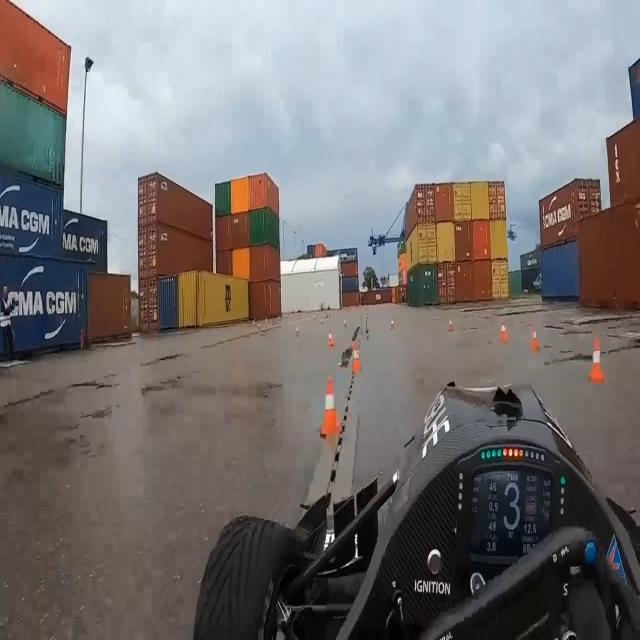Orange cone: (316, 362, 344, 453), (586, 322, 610, 400), (346, 332, 369, 381), (524, 310, 544, 366), (319, 319, 340, 358), (495, 315, 514, 354), (440, 313, 460, 342), (388, 315, 402, 340)
